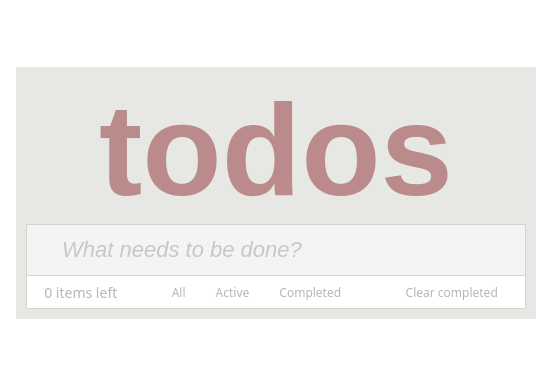
Scenario: Todo App › фильтрация задач по статусу
Type "Активная задача" into the field with placeholder "What needs to be done?" at (276, 250), box x1=27 y1=225 x2=525 y2=275
Press Enter in the field with placeholder "What needs to be done?", box x1=27 y1=225 x2=525 y2=275
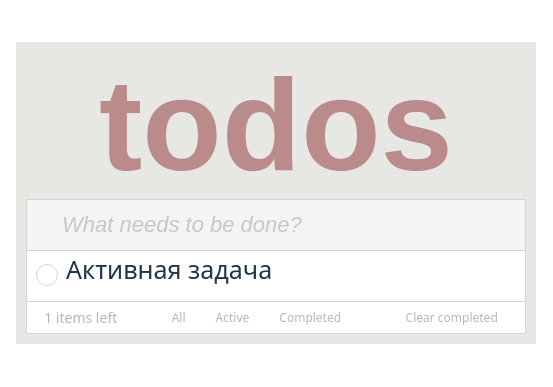
Type "Выполненная задача" into the field with placeholder "What needs to be done?" at (276, 225), box x1=27 y1=200 x2=525 y2=250
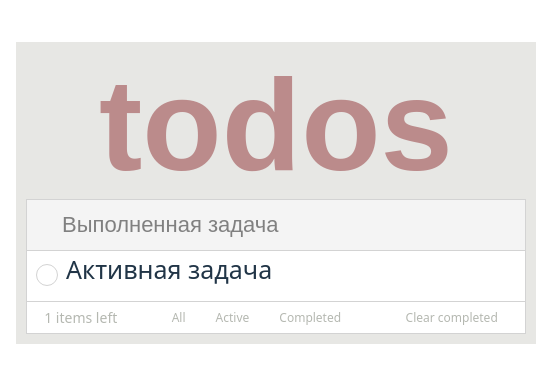
Press Enter in the field with placeholder "What needs to be done?", box x1=27 y1=200 x2=525 y2=250
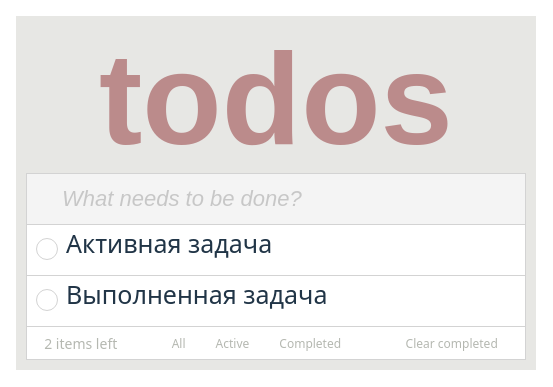
Click the text "Выполненная задача" at (197, 294), box x1=66 y1=277 x2=327 y2=311
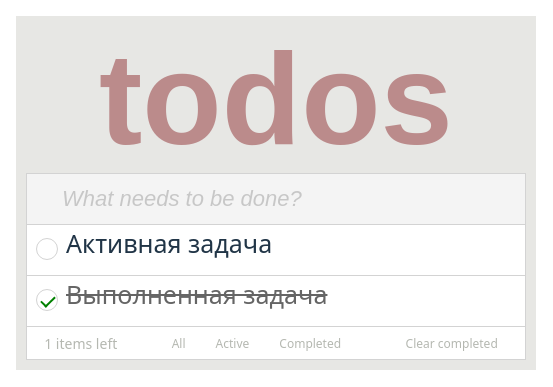
Click the button "Active" at (232, 343), box x1=206 y1=327 x2=259 y2=359
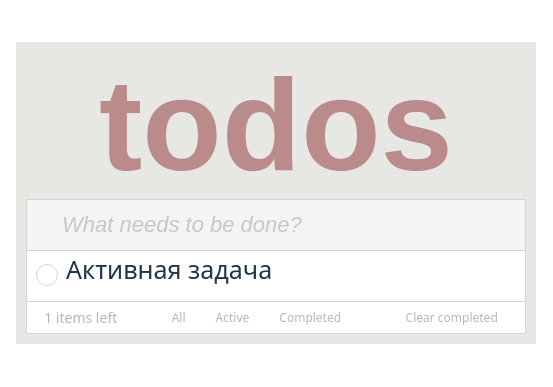
Expected: the text "Активная задача" is shown, x1=66 y1=252 x2=272 y2=286
Expected: the text "Выполненная задача" is gone
Click the button "Completed" at (310, 318), box x1=269 y1=302 x2=351 y2=333
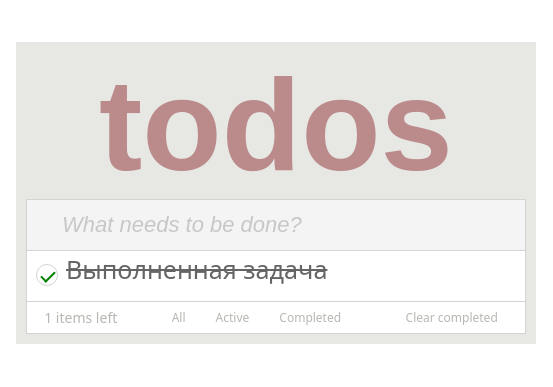
Expected: the text "Активная задача" is gone
Expected: the text "Выполненная задача" is shown, x1=66 y1=252 x2=327 y2=286
